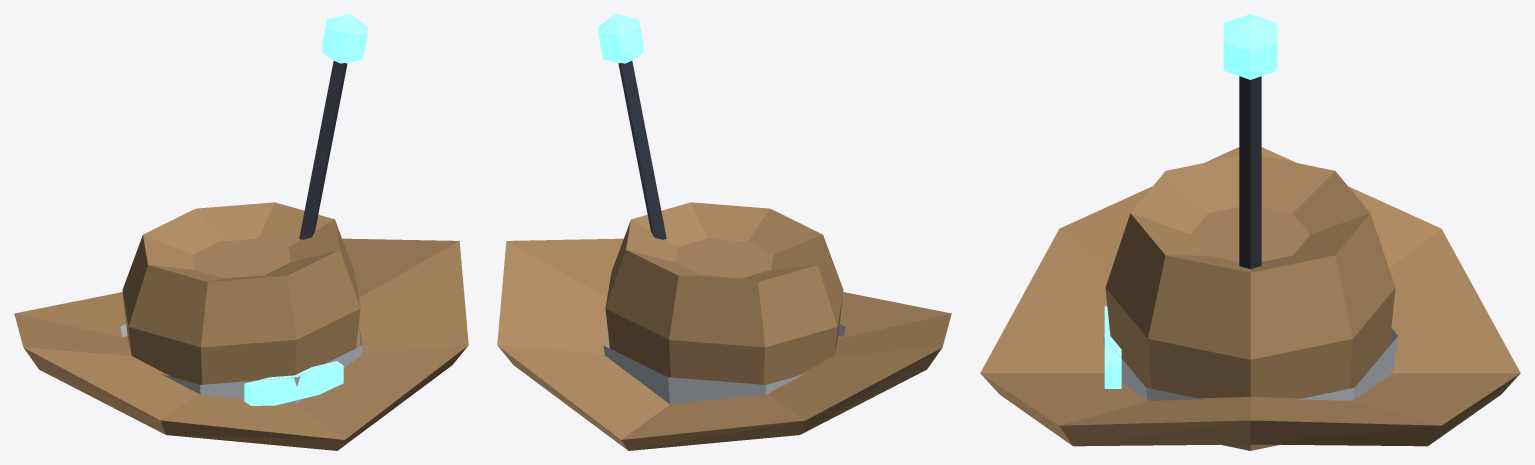
File: Prop_CyberHat_A.fbx
3 renders of one model, left to right at view 1: azimuth 30°, elevation 25°; view 2: azimuth 150°, elevation 25°; view 3: azimuth 270°, elevation 25°, orthographic. The views are drawn at different scales.
Visible parts, largest first — view 1: Prop_CyberHat_A; view 2: Prop_CyberHat_A; view 3: Prop_CyberHat_A.
Part boxes in pixels (x1,y1,x2,y2): Prop_CyberHat_A: [14, 14, 468, 450]; Prop_CyberHat_A: [497, 14, 951, 450]; Prop_CyberHat_A: [980, 14, 1520, 450].
Size of the model in its own units: 0.4704 by 0.3507 by 0.3857.
